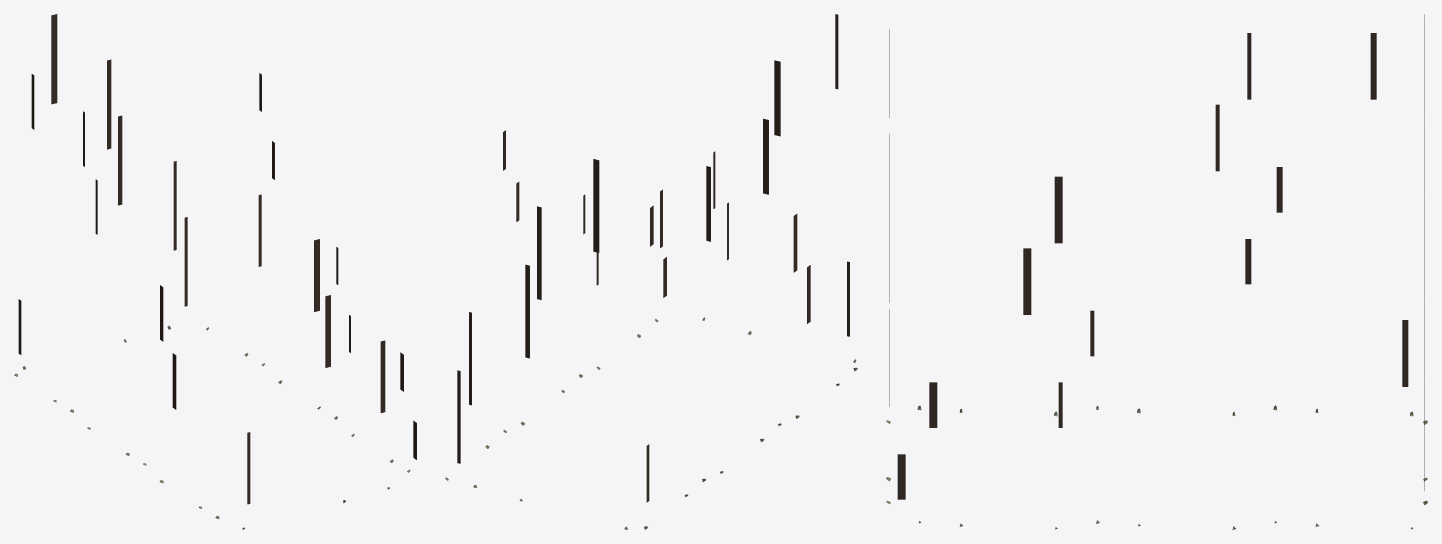
The model's file is anchor_block_16x28x8_detail2.glb.
3 views of the same model, side by side, from view 1: azimuth 30°, elevation 25°; view 2: azimuth 150°, elevation 25°; view 3: azimuth 270°, elevation 25° (orthographic). The views are drawn at different scales.
Parts seen in each view (by area): view 1: anchor_block_16x28x8_detail2_mesh; view 2: anchor_block_16x28x8_detail2_mesh; view 3: anchor_block_16x28x8_detail2_mesh.
Part boxes in pixels (x1,y1,x2,y2): anchor_block_16x28x8_detail2_mesh: (14,14,416,529); anchor_block_16x28x8_detail2_mesh: (445,14,857,529); anchor_block_16x28x8_detail2_mesh: (886,14,1427,529).
Bounding box in the file's own units: 8.24 × 14.09 × 16.24.
